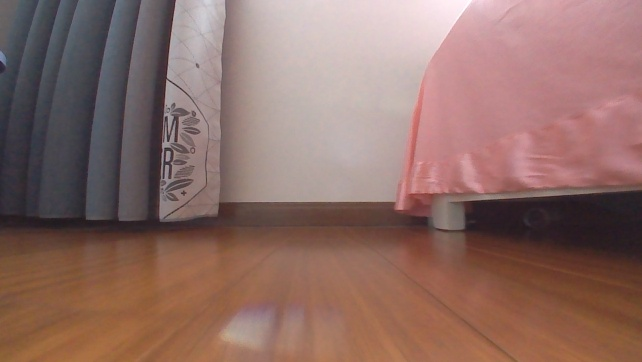bed1: (390, 0, 641, 234)
